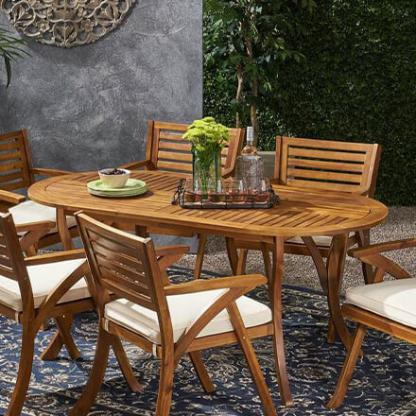table: (26, 166, 393, 412)
